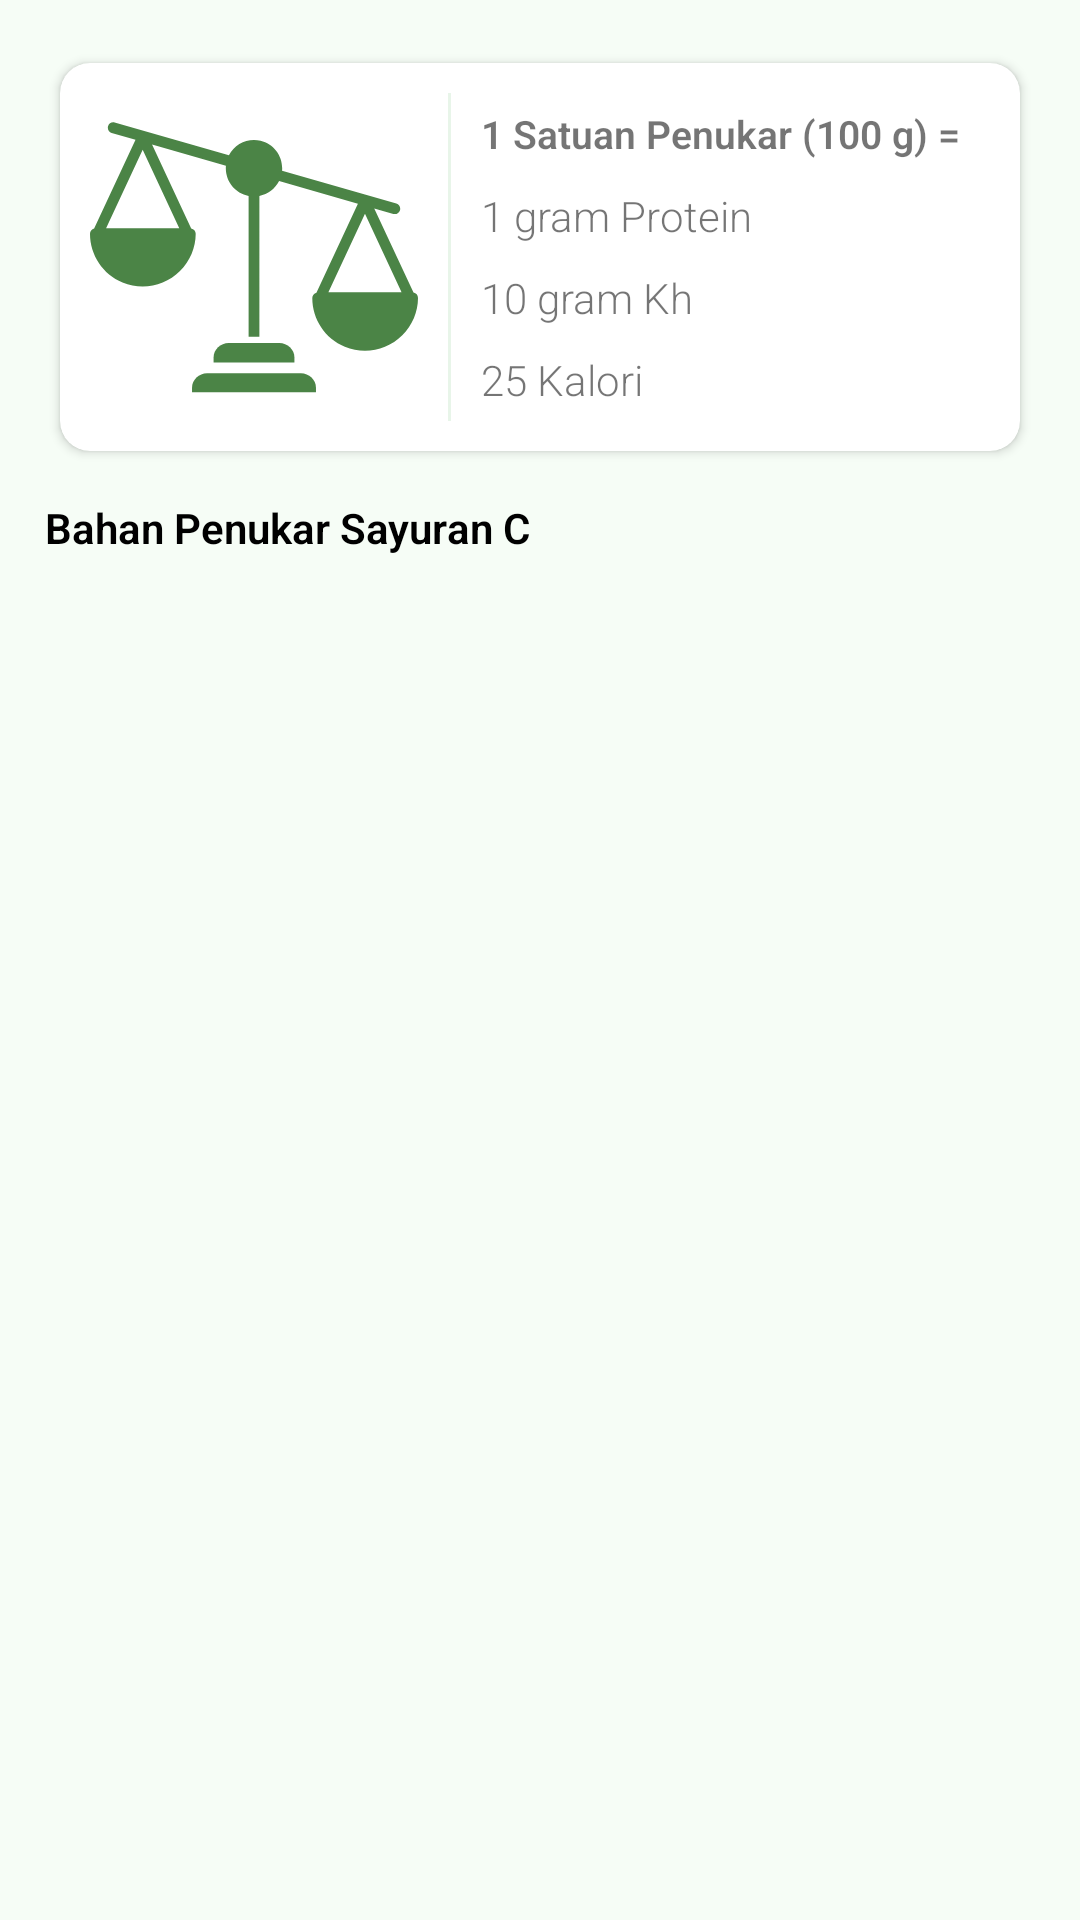

Named icons in this screenshot (1080x1920) and their centers, (x=x, y=y):
balance: (x=254, y=257)
